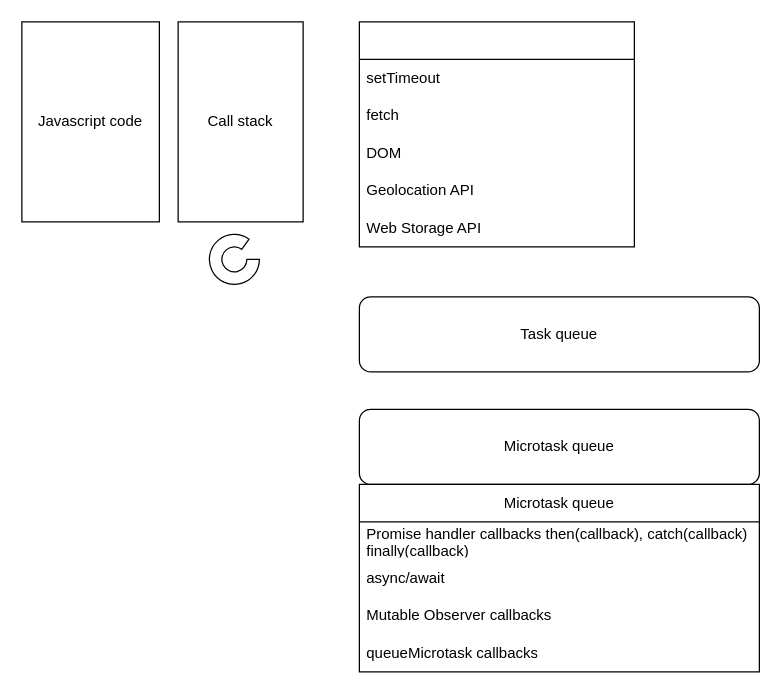
Image size: 781x694. Some labels were removed from this diagram. The shapes that lost their labels are listed below. From the top down, each one's box as (x1, y1, x2, y2) in pixels, then its label:
(358, 21, 634, 247): Web APIs
(208, 233, 259, 284): Event loop
